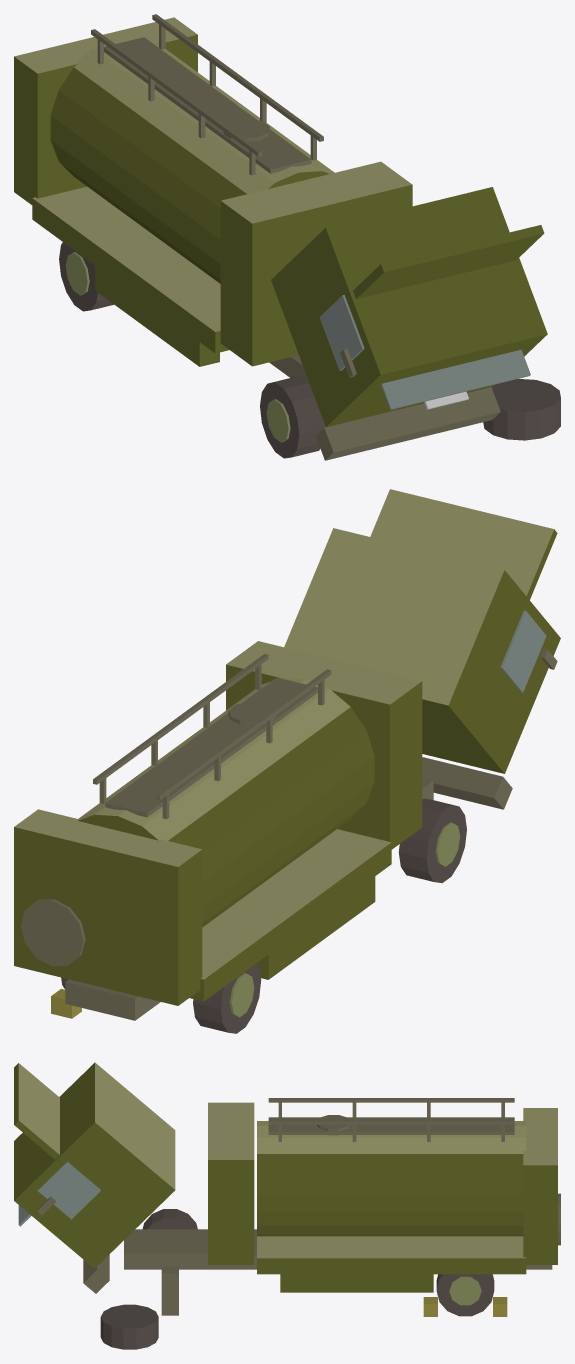
File: SM_CamionCisterna_v3_Averiado_LOD0.fbx
3 renders of one model, top to bottom at view 1: azimuth 30°, elevation 25°; view 2: azimuth 150°, elevation 25°; view 3: azimuth 270°, elevation 25°, orthographic. The views are drawn at different scales.
Visible parts, largest first — view 1: SM_camion_cisterna_v3_LOD0; view 2: SM_camion_cisterna_v3_LOD0; view 3: SM_camion_cisterna_v3_LOD0.
Part boxes in pixels (x1,y1,x2,y2): SM_camion_cisterna_v3_LOD0: (14,14,560,460); SM_camion_cisterna_v3_LOD0: (14,489,560,1033); SM_camion_cisterna_v3_LOD0: (14,1062,560,1349).
Bounding box in the file's own units: 3.89 × 3.76 × 9.45.
